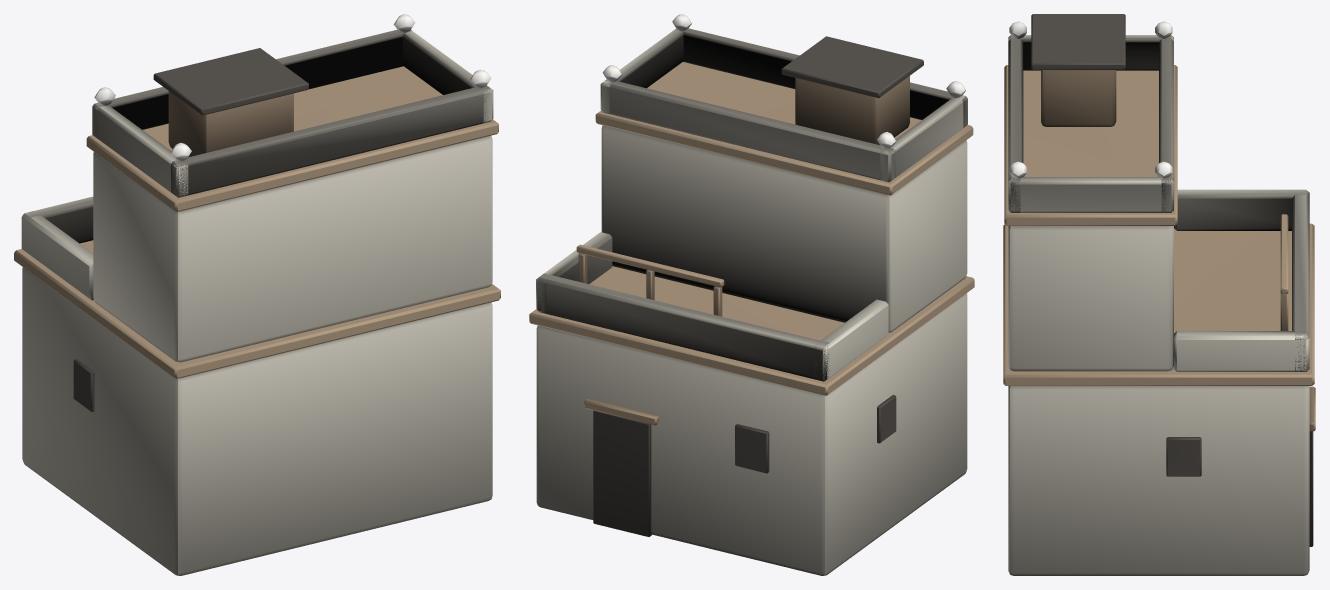
Rendered from qiang_house.glb.
3 renders of one model, left to right at view 1: azimuth 30°, elevation 25°; view 2: azimuth 150°, elevation 25°; view 3: azimuth 270°, elevation 25°, orthographic. The views are drawn at different scales.
Parts seen in each view (by area): view 1: qiang_house; view 2: qiang_house; view 3: qiang_house.
Part boxes in pixels (x1,y1,x2,y2): qiang_house: (14, 14, 500, 575); qiang_house: (529, 14, 974, 575); qiang_house: (1003, 14, 1315, 575).
Bounding box in the file's own units: 2.88 × 3.81 × 2.49.
